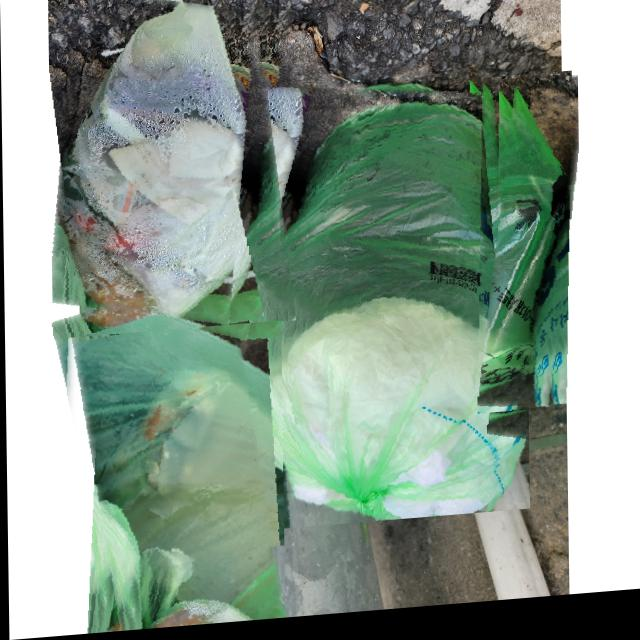general_trashbag: (222, 96, 528, 535), (66, 292, 282, 633), (52, 0, 263, 328), (476, 84, 578, 416)
